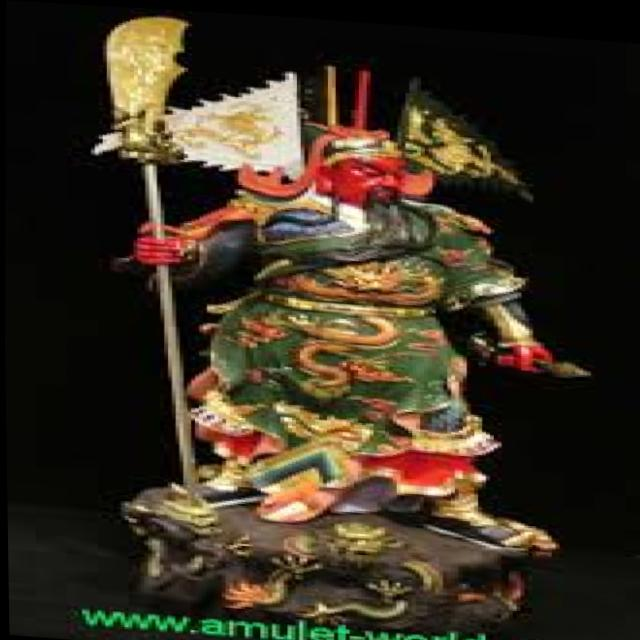Guan Yu: (90, 4, 541, 524)
